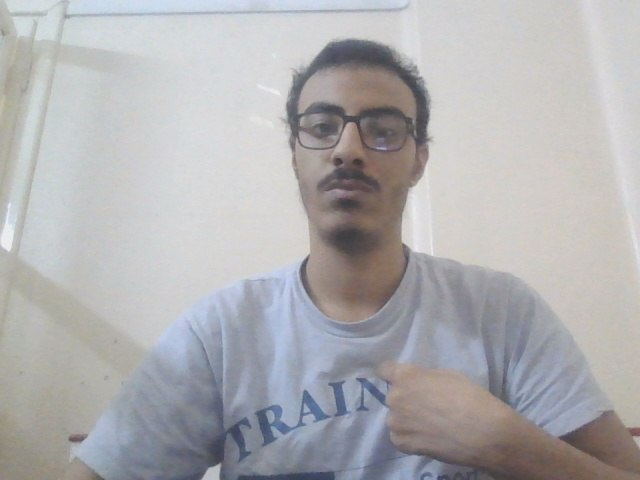Me: (370, 351, 531, 472)
